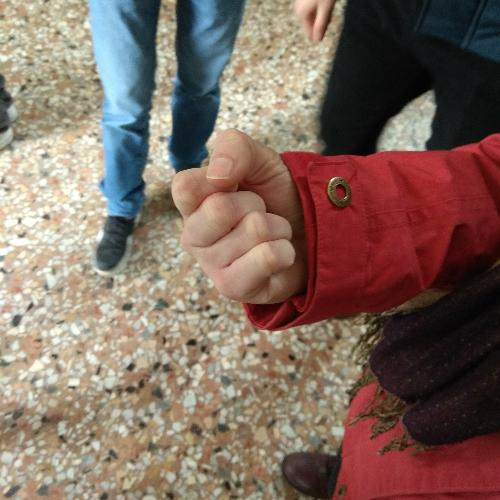rock: (165, 124, 320, 314)
